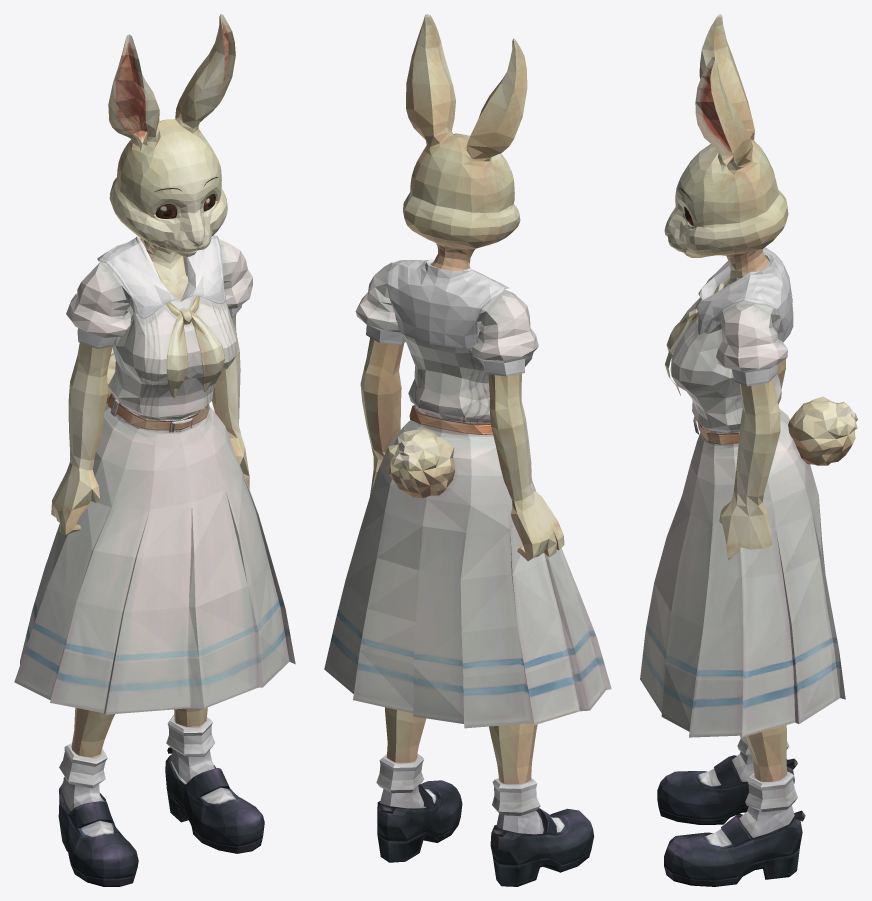
File: StandingW_BriefcaseIdle_4a.glb
3 views of the same model, side by side, from view 1: azimuth 30°, elevation 25°; view 2: azimuth 150°, elevation 25°; view 3: azimuth 270°, elevation 25° (orthographic).
Bounding box in the file's own units: 0.8336 × 2.49 × 0.6018.
4 materials, 4 textured.
